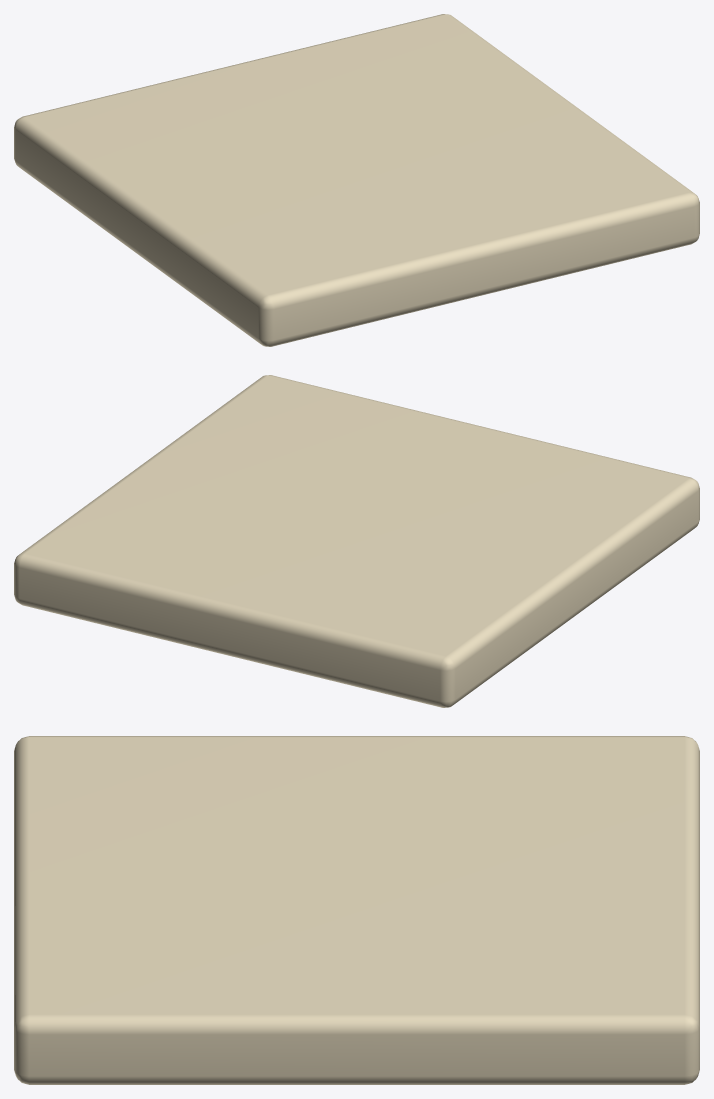
File: floor_stone.glb
3 views of the same model, one above another, from view 1: azimuth 30°, elevation 25°; view 2: azimuth 150°, elevation 25°; view 3: azimuth 270°, elevation 25° (orthographic). The views are drawn at different scales.
Visible parts, largest first — view 1: Body_cream; view 2: Body_cream; view 3: Body_cream.
Part boxes in pixels (box(x1,y1,x2,y2)): Body_cream: box(14, 14, 699, 346); Body_cream: box(14, 375, 699, 707); Body_cream: box(14, 736, 699, 1084).
Size of the model in its own units: 1.8 by 0.2 by 1.8.
